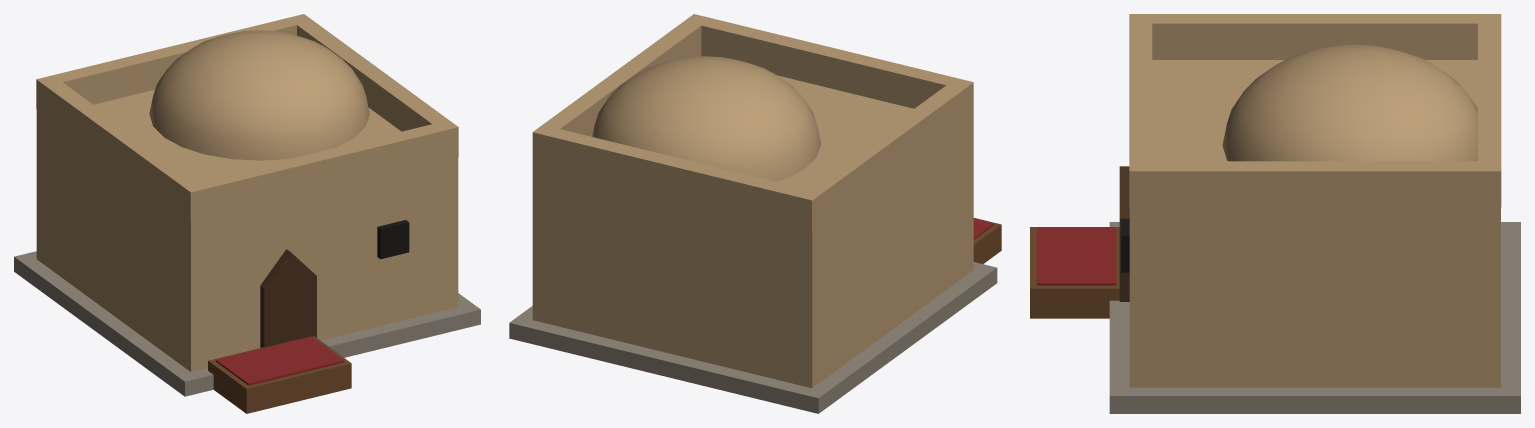
The model's file is house.glb.
The picture shows the model from 3 angles, left to right: view 1: azimuth 30°, elevation 25°; view 2: azimuth 150°, elevation 25°; view 3: azimuth 270°, elevation 25°; orthographic projection. The views are drawn at different scales.
Visible parts, largest first — view 1: House; view 2: House; view 3: House.
Boxes of the visible parts, box(x1,y1,x2,y2) form: House: box(14, 14, 480, 413); House: box(509, 14, 1001, 413); House: box(1030, 14, 1520, 413).
Size of the model in its own units: 6.2 by 4.7 by 7.4.
